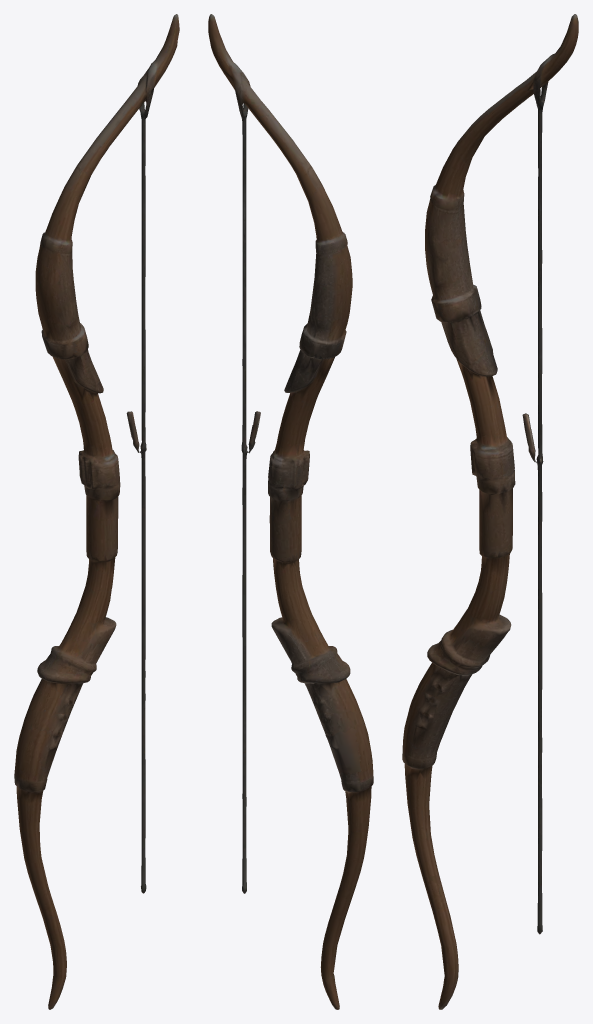
File: archer-bow.glb
3 views of the same model, side by side, from view 1: azimuth 30°, elevation 25°; view 2: azimuth 150°, elevation 25°; view 3: azimuth 330°, elevation 25° (orthographic). The views are drawn at different scales.
Bounding box in the file's own units: 0.3327 × 1.9 × 0.0937.
Materials: 1 (1 with a texture image).
